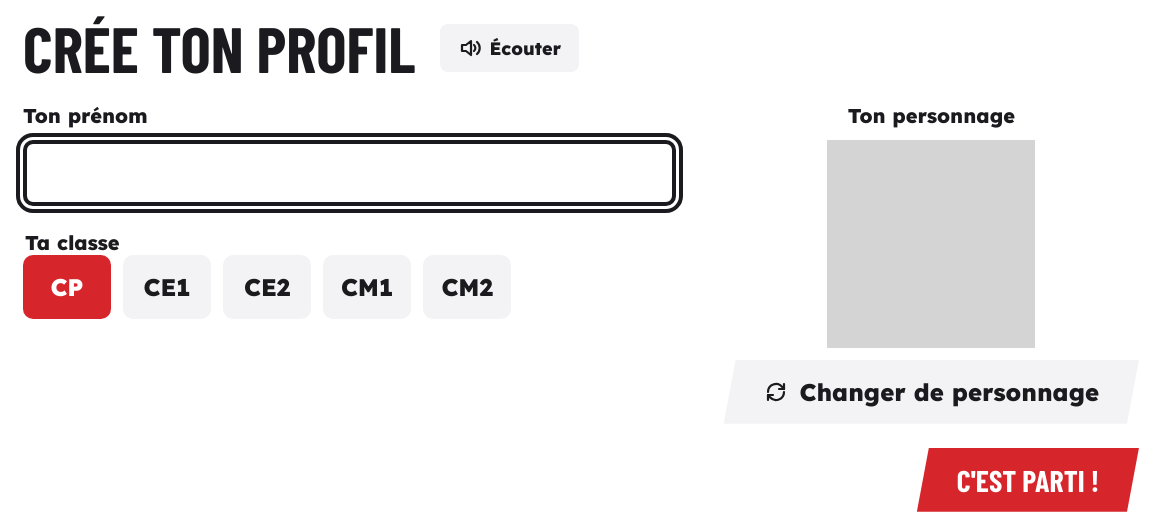
Scenario: ProfilesScreen › explains a refused name in a simple sentence
In the field labelled "Ton prénom": (349, 173) x1=23 y1=140 x2=676 y2=206, type "Léa"
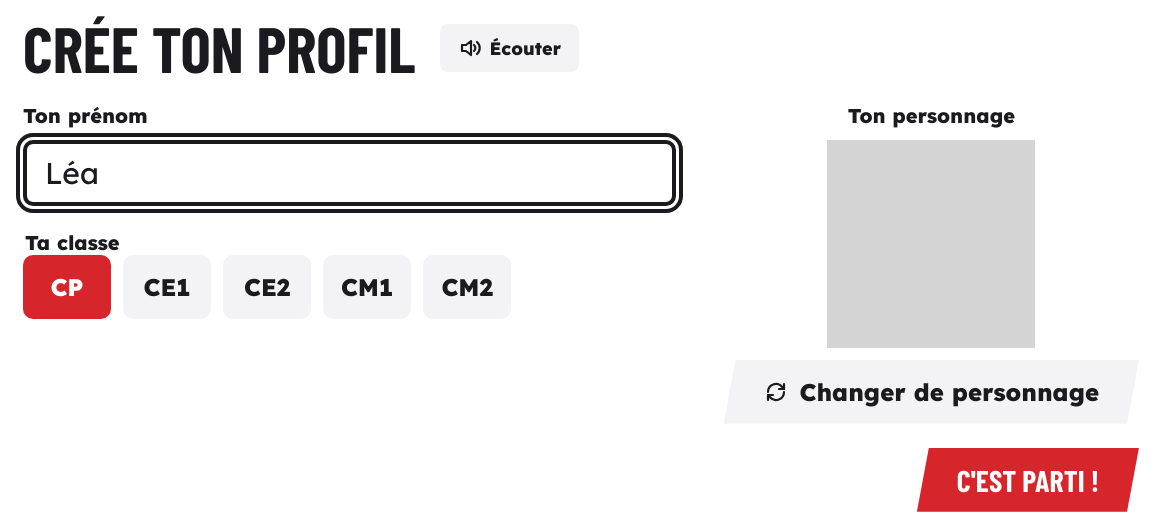
Click the button "C'est parti !": (1028, 480) x1=917 y1=448 x2=1139 y2=512
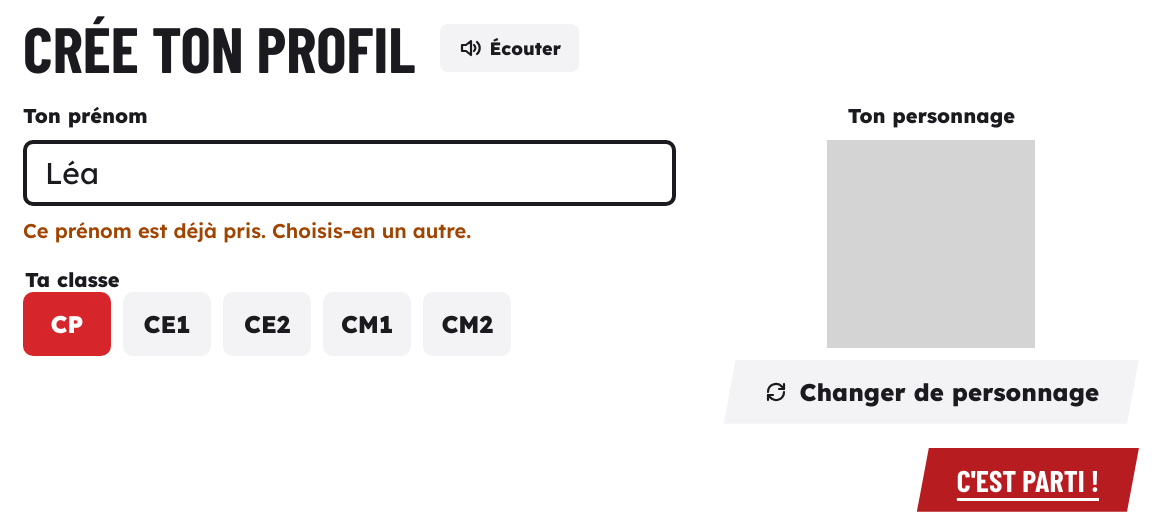
Now the message reads "Ce prénom est déjà pris. Choisis-en un autre.", box x1=23 y1=218 x2=471 y2=243
